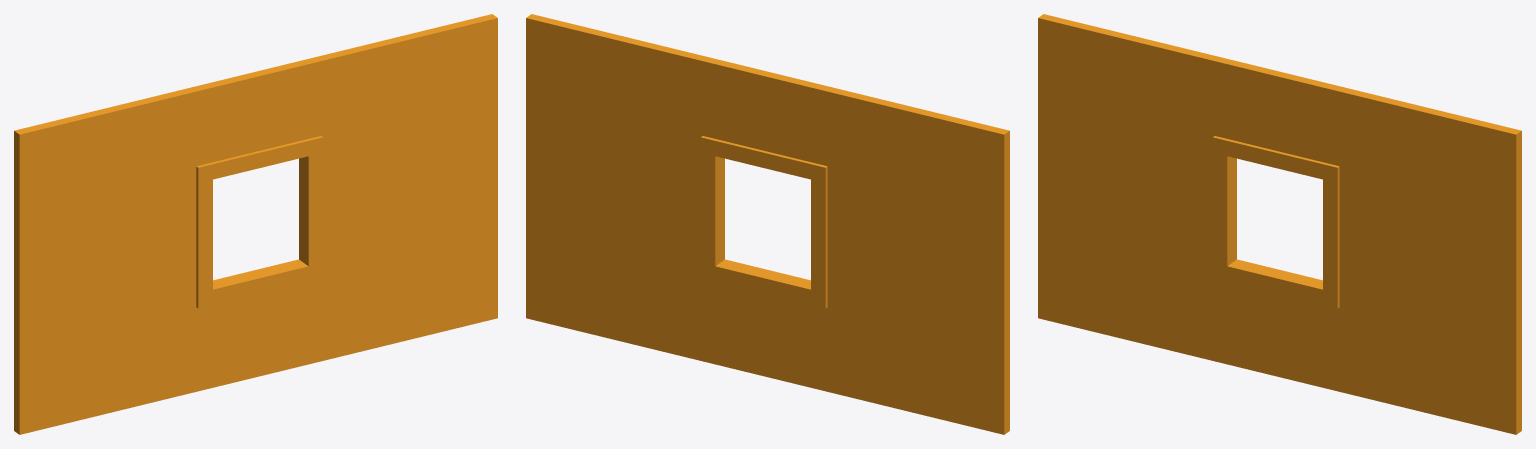
Rendered from SM_Buildings_WallWindow_5x3_01.fbx.
The picture shows the model from 3 angles, left to right: view 1: azimuth 30°, elevation 25°; view 2: azimuth 150°, elevation 25°; view 3: azimuth 330°, elevation 25°; orthographic projection.
Visible parts, largest first — view 1: SM_Buildings_WallWindow_5x3_01; view 2: SM_Buildings_WallWindow_5x3_01; view 3: SM_Buildings_WallWindow_5x3_01.
Part boxes in pixels (box(x1,y1,x2,y2)): SM_Buildings_WallWindow_5x3_01: box(14, 14, 497, 434); SM_Buildings_WallWindow_5x3_01: box(526, 14, 1009, 434); SM_Buildings_WallWindow_5x3_01: box(1038, 14, 1521, 434).
Size of the model in its own units: 500 by 300 by 17.29.
